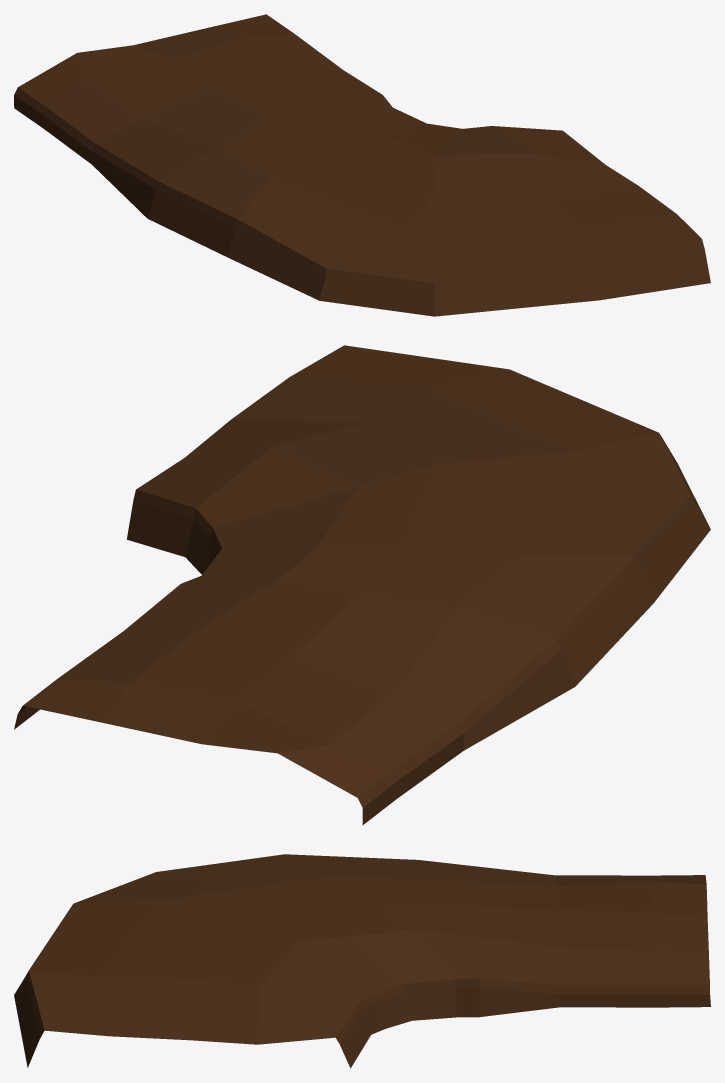
Rendered from RoadDirty_12.fbx.
The picture shows the model from 3 angles, top to bottom: view 1: azimuth 30°, elevation 25°; view 2: azimuth 150°, elevation 25°; view 3: azimuth 270°, elevation 25°; orthographic projection. The views are drawn at different scales.
Parts seen in each view (by area): view 1: RoadDirty_12; view 2: RoadDirty_12; view 3: RoadDirty_12.
Boxes of the visible parts, x1,y1,x2,y2 form: RoadDirty_12: (14, 14, 710, 316); RoadDirty_12: (14, 345, 710, 825); RoadDirty_12: (14, 854, 710, 1068).
Size of the model in its own units: 423 by 65.02 by 691.
